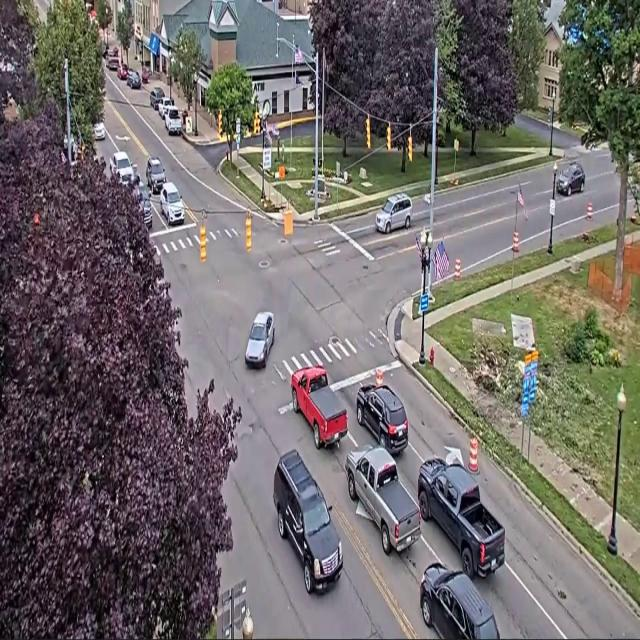car: (273, 450, 342, 593), (420, 563, 500, 639), (356, 384, 408, 454), (245, 312, 274, 367), (375, 193, 412, 233), (160, 183, 184, 225), (556, 162, 585, 196), (110, 152, 136, 183), (135, 182, 152, 228), (146, 157, 165, 193), (164, 106, 181, 135), (158, 96, 173, 119), (150, 87, 164, 110), (127, 71, 141, 88), (94, 122, 106, 140), (103, 46, 118, 59), (107, 55, 119, 71), (118, 64, 128, 79), (141, 69, 150, 84)
traffic signal: (245, 212, 251, 252), (200, 225, 206, 262), (254, 112, 260, 135), (366, 116, 370, 149), (387, 124, 391, 151), (218, 111, 222, 137), (408, 135, 412, 161), (548, 106, 552, 124)
truck: (418, 457, 505, 579), (345, 445, 420, 554), (291, 367, 347, 448)
